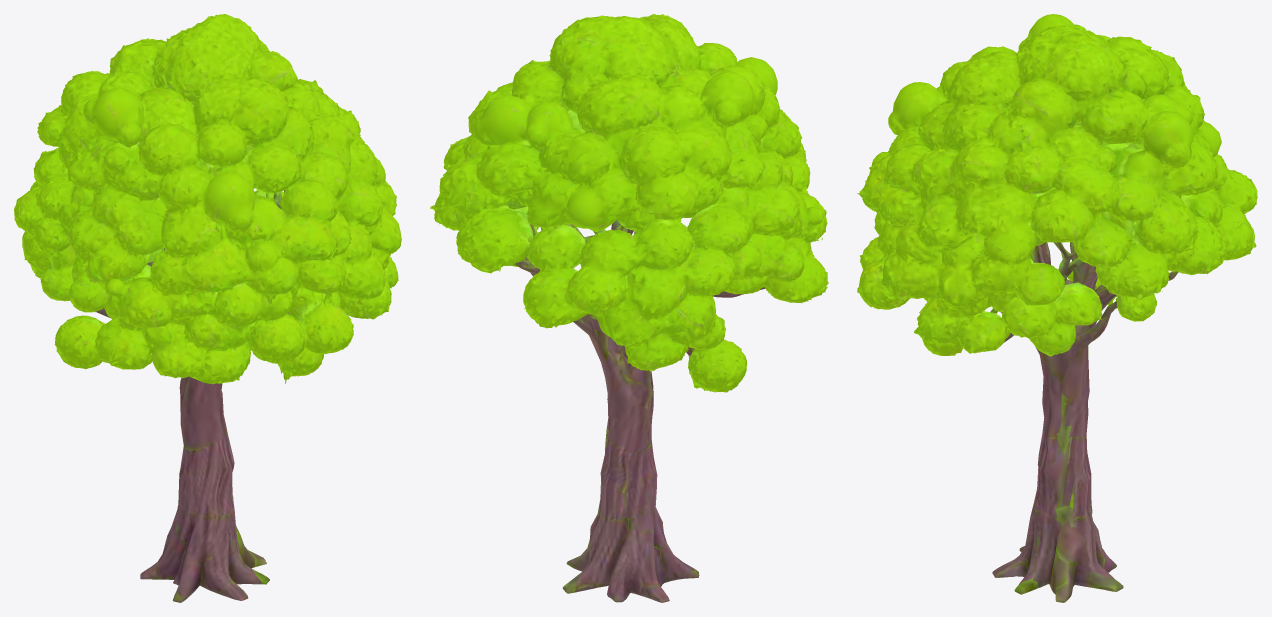
Rendered from tree_oak.glb.
3 views of the same model, side by side, from view 1: azimuth 30°, elevation 25°; view 2: azimuth 150°, elevation 25°; view 3: azimuth 270°, elevation 25° (orthographic). The views are drawn at different scales.
Size of the model in its own units: 1.13 by 1.9 by 1.26.
1 material, 1 textured.
